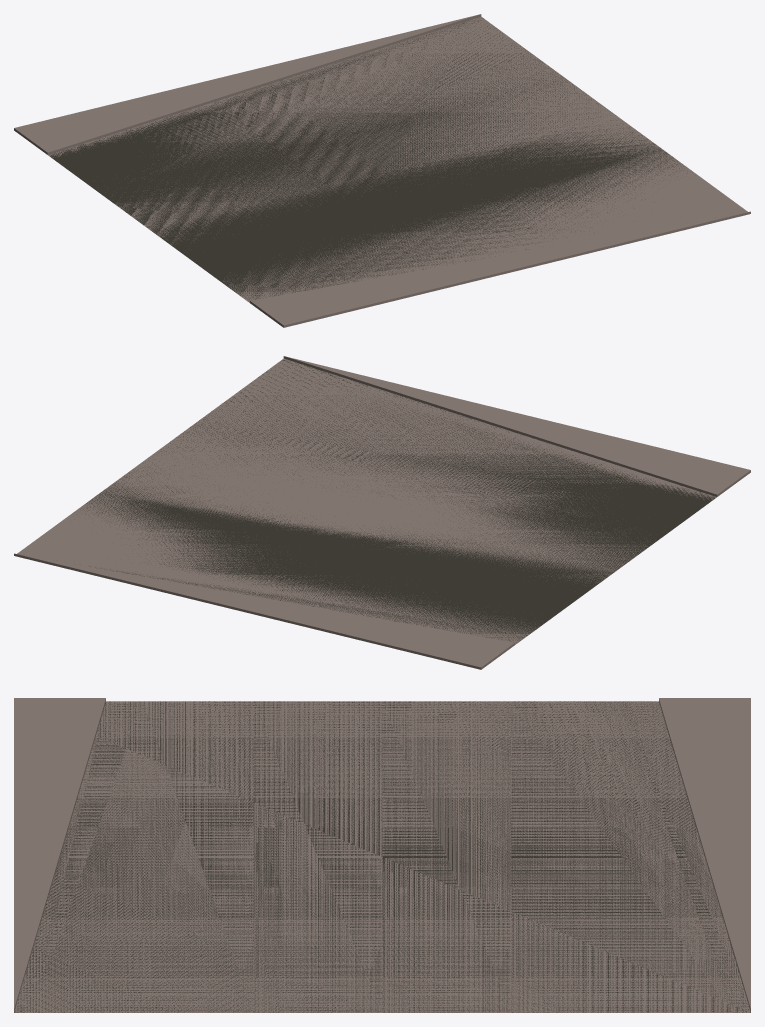
File: Env_3lane_To_2lane.fbx
The picture shows the model from 3 angles, top to bottom: view 1: azimuth 30°, elevation 25°; view 2: azimuth 150°, elevation 25°; view 3: azimuth 270°, elevation 25°; orthographic projection. The views are drawn at different scales.
Parts seen in each view (by area): view 1: Env_3lane_To_2lane; view 2: Env_3lane_To_2lane; view 3: Env_3lane_To_2lane.
Boxes of the visible parts, bbox=[...] form: Env_3lane_To_2lane: bbox=[14, 14, 750, 327]; Env_3lane_To_2lane: bbox=[14, 356, 750, 669]; Env_3lane_To_2lane: bbox=[14, 698, 750, 1012].
Size of the model in its own units: 2000 by 10 by 2000.
